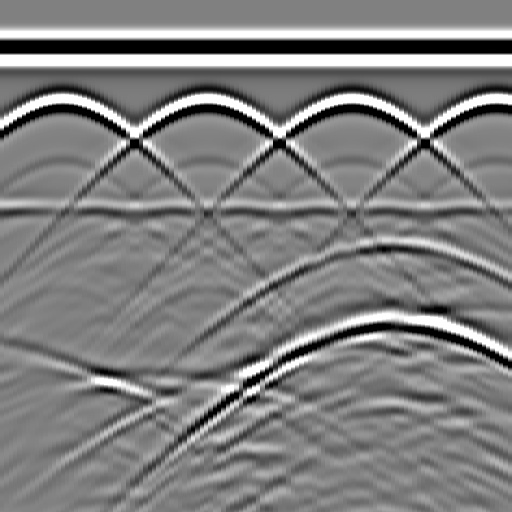grout_surface: (1, 195, 512, 225)
rebar: (41, 82, 81, 122), (185, 82, 225, 122), (329, 82, 369, 122), (473, 82, 512, 122)
rock_surface: (1, 312, 511, 391)
water_void: (359, 219, 419, 259)
